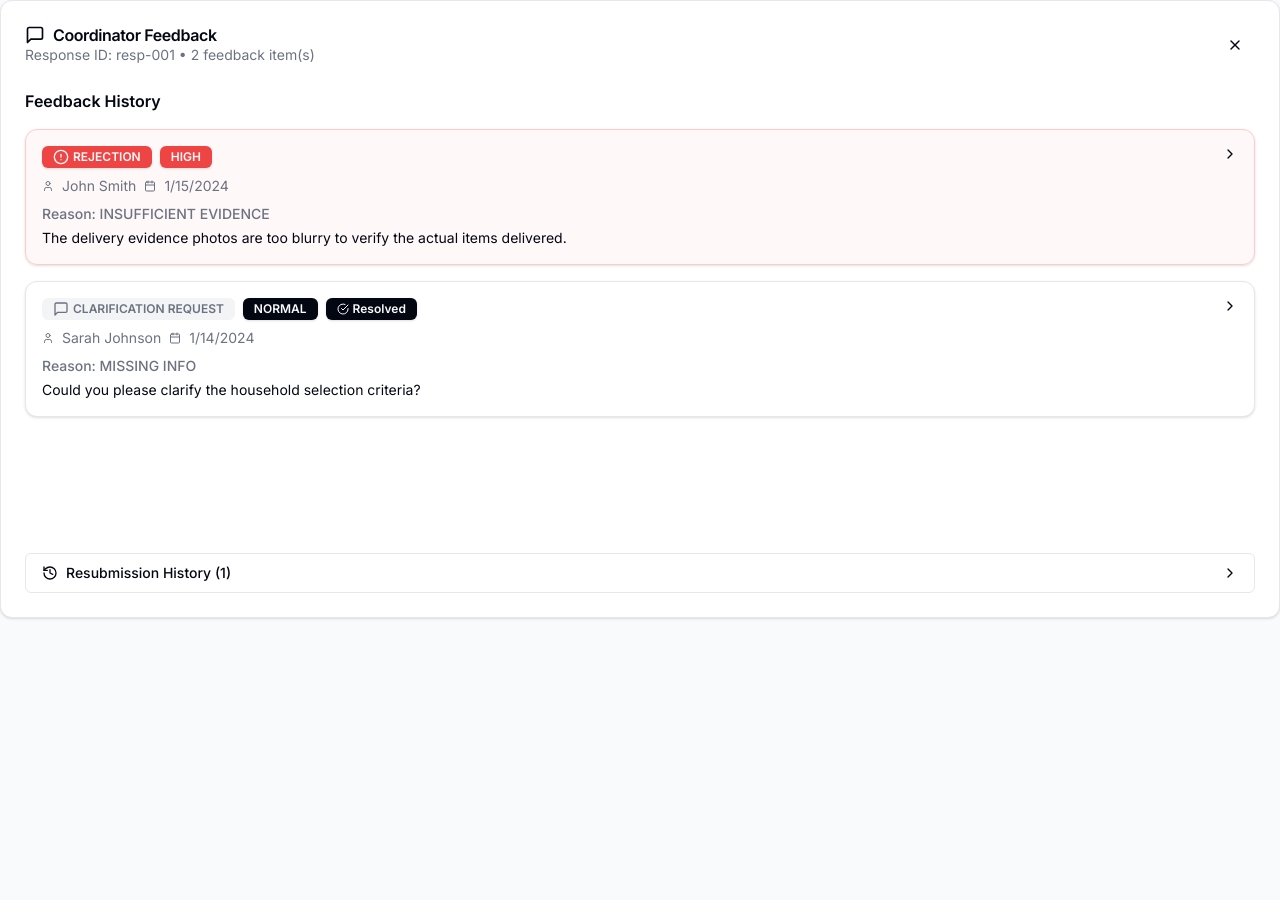
CoordinatorFeedback › shows resubmission history when expanded
This screenshot has width=1280, height=900.
Check: the text "Resubmission History (1)" is shown, box x1=42 y1=563 x2=231 y2=583
Click the button "Resubmission History (1)".
click(143, 572)  # box x1=25 y1=553 x2=1255 y2=593
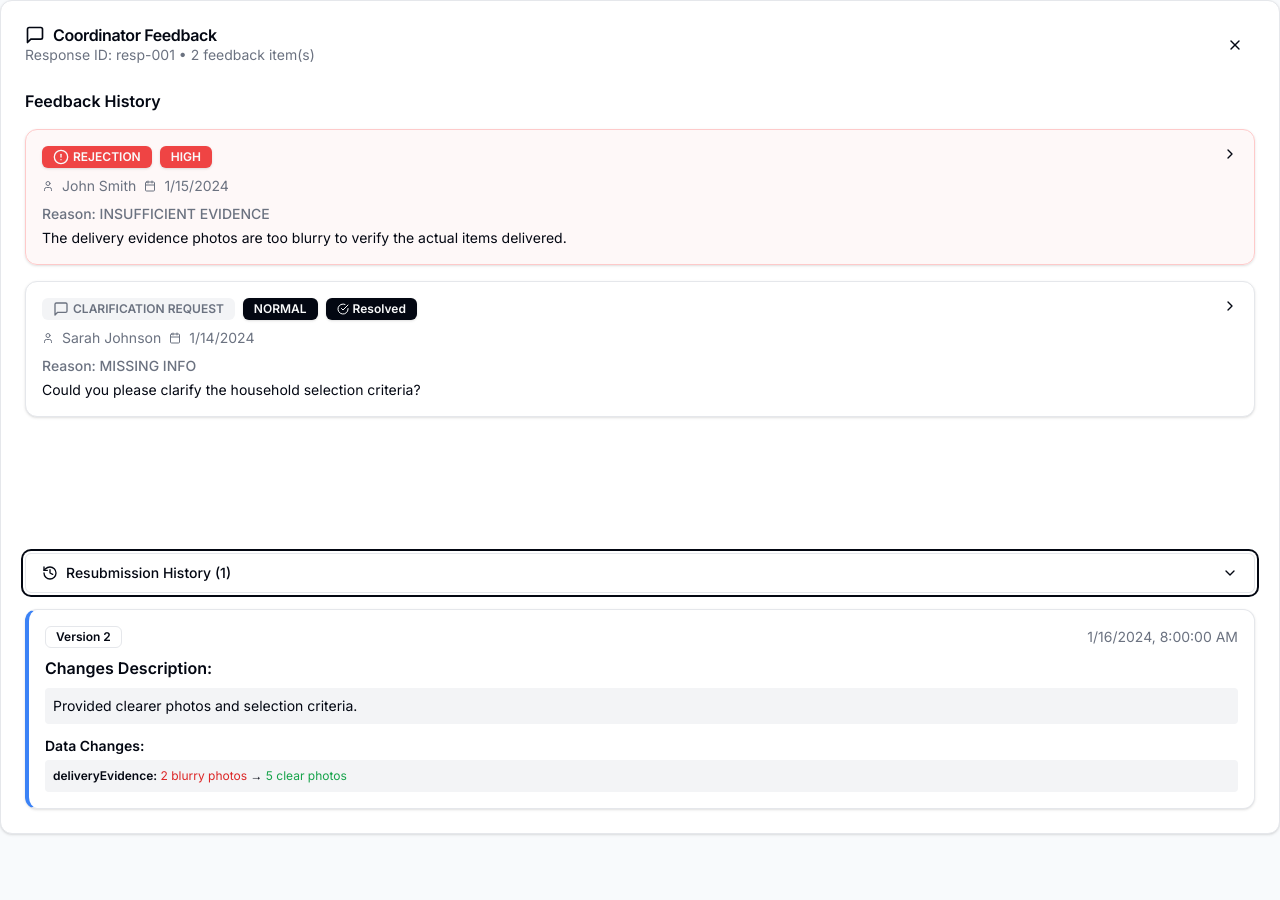
Check: the text "Version 2" is shown, box x1=45 y1=626 x2=122 y2=648
Check: the text "Provided clearer photos and selection criteria." is shown, box x1=45 y1=688 x2=1238 y2=724
Check: the heading "Data Changes:" is shown, box x1=45 y1=737 x2=144 y2=754
